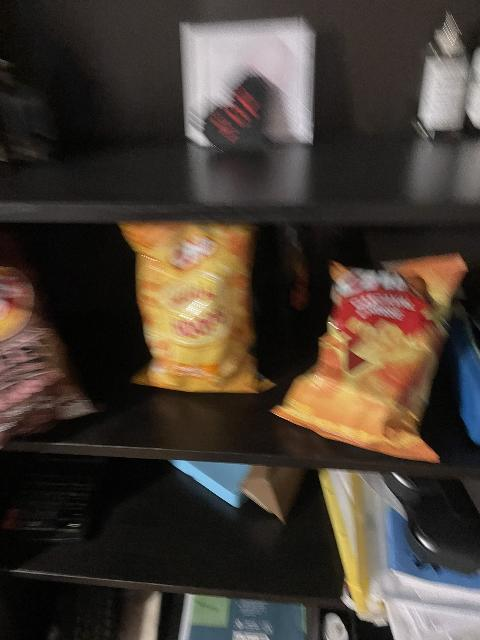Chio Cascaval 125g: (269, 256, 458, 463)
Chio Hula Hoops Cheese 70g: (115, 222, 277, 391)
Lays Beef Grilled Ribs 125g: (0, 255, 98, 462)
